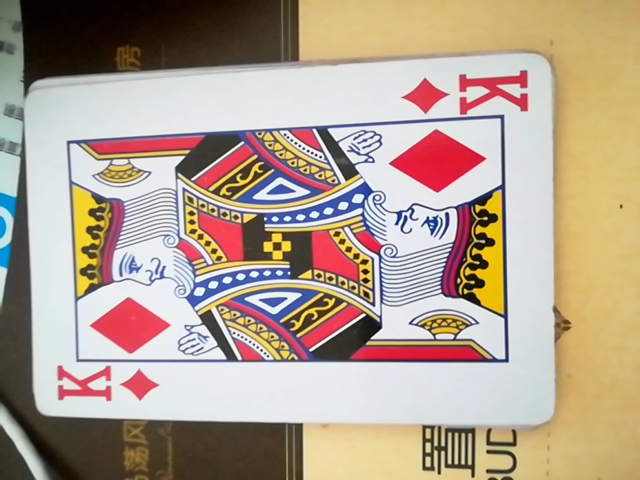fk k: (23, 45, 557, 421)
